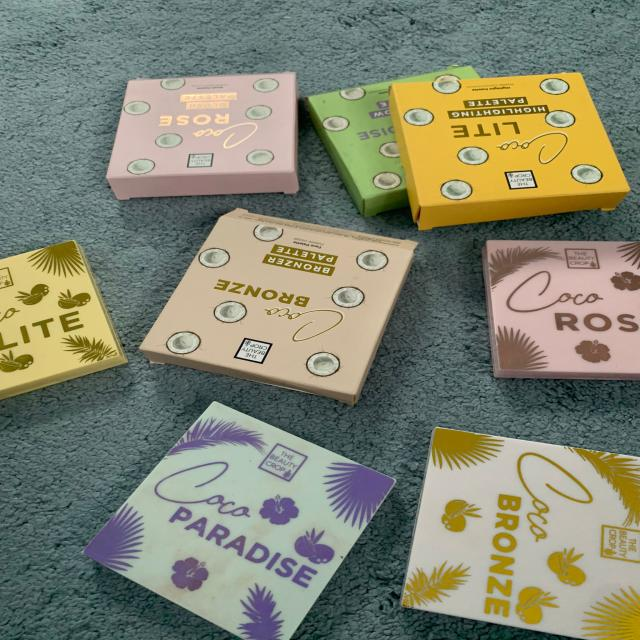eye shade: (75, 399, 428, 640), (304, 64, 640, 230), (136, 216, 438, 400), (419, 408, 640, 640), (98, 58, 301, 204)
